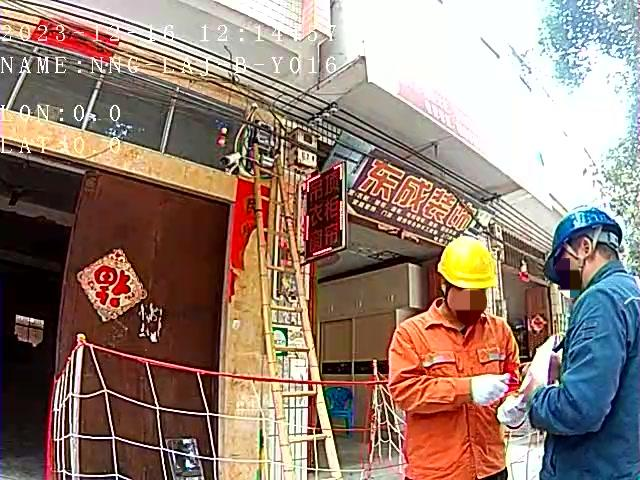halt: (552, 211, 627, 286), (439, 239, 500, 322)
inear: (569, 235, 600, 271)
